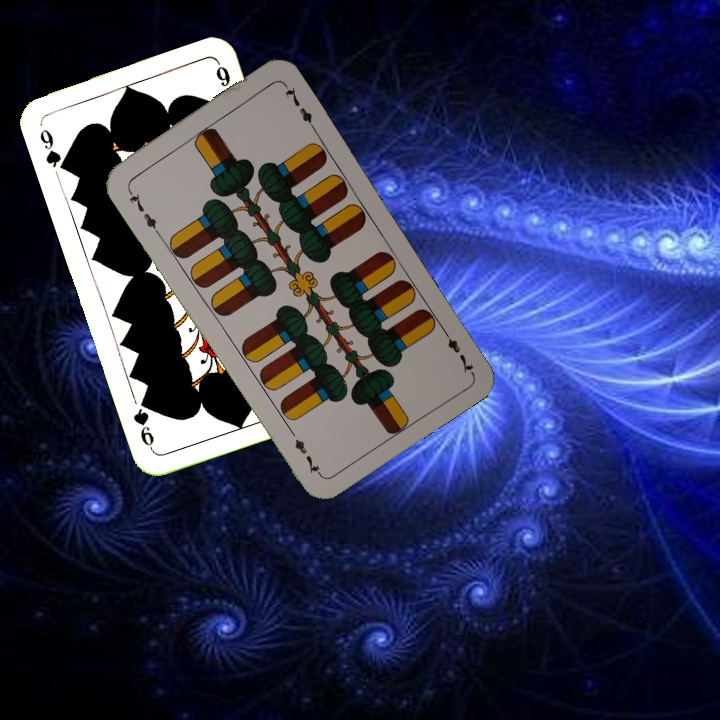E7: (437, 323, 476, 376), (123, 183, 161, 236)
G9: (35, 125, 71, 174)
